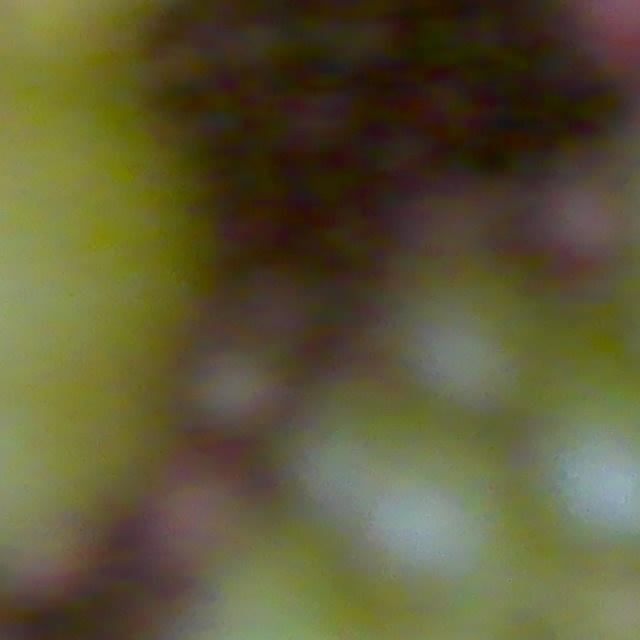SeaGrape: (284, 408, 501, 608), (401, 264, 568, 420)
